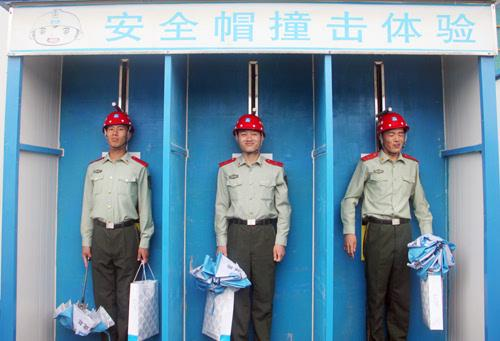helmet: (377, 114, 414, 137), (235, 115, 269, 136), (104, 114, 135, 128)
